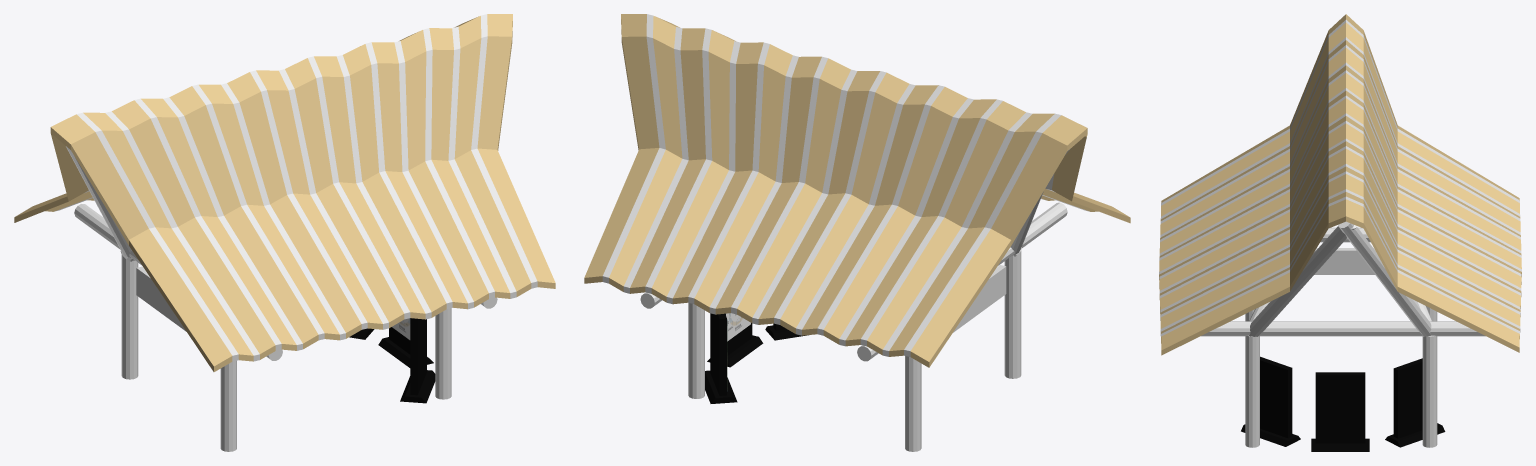
File: Tamar.fbx
3 renders of one model, left to right at view 1: azimuth 30°, elevation 25°; view 2: azimuth 150°, elevation 25°; view 3: azimuth 270°, elevation 25°, orthographic. The views are drawn at different scales.
Parts seen in each view (by area): view 1: Plane.007, Cylinder.002, Cube.075, Cylinder.014, Cylinder.003, Cube.073, Cylinder.016, Cylinder.005, Cube.074; view 2: Plane.007, Cylinder.003, Cube.076, Cylinder.015, Cylinder.002, Cylinder.016, Cube.073, Cube.074; view 3: Plane.007, Cube.074, Cylinder.013, Cube.075, Cube.076, Cylinder.009, Cylinder.010, Cylinder.015, Cylinder.014, Cube.073.
Boxes of the visible parts, x1,y1,x2,y2 form: Plane.007: (14, 14, 555, 371); Cylinder.002: (121, 254, 138, 379); Cube.075: (400, 318, 435, 403); Cylinder.014: (435, 308, 451, 399); Cylinder.003: (220, 360, 236, 451); Cube.073: (136, 266, 186, 331); Cylinder.016: (74, 204, 282, 360); Cylinder.005: (66, 146, 134, 260); Cube.074: (378, 327, 433, 367); Plane.007: (584, 14, 1130, 367); Cylinder.003: (1004, 250, 1021, 378); Cube.076: (705, 313, 737, 403); Cylinder.015: (688, 303, 704, 398); Cylinder.002: (905, 356, 921, 451); Cylinder.016: (857, 202, 1067, 361); Cube.073: (953, 265, 1006, 332); Cube.074: (707, 313, 763, 367); Plane.007: (1159, 14, 1521, 355); Cube.074: (1311, 372, 1369, 451); Cylinder.013: (1201, 321, 1485, 336); Cube.075: (1241, 356, 1300, 446); Cube.076: (1385, 358, 1445, 447); Cylinder.009: (1338, 221, 1431, 336); Cylinder.010: (1249, 225, 1357, 336); Cylinder.015: (1422, 335, 1437, 447); Cylinder.014: (1245, 335, 1259, 447); Cube.073: (1314, 248, 1374, 274).
Size of the model in its own units: 1294 by 857 by 980.
